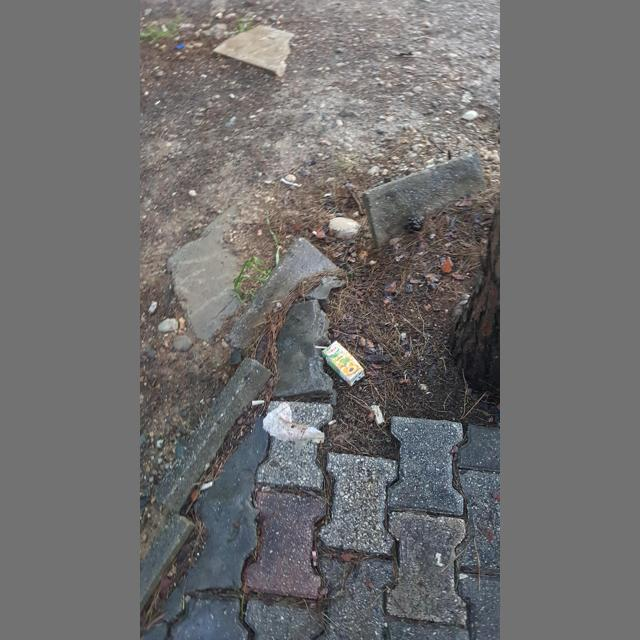litter: (322, 340, 365, 386), (252, 400, 264, 406), (328, 419, 337, 427), (314, 346, 327, 349)
